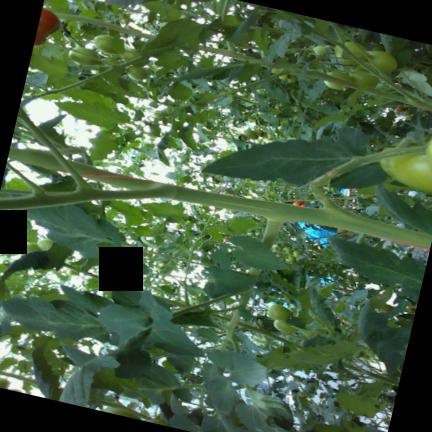6kp_peduncle: (294, 154, 385, 236)
6kp_petiole: (228, 195, 334, 249), (95, 174, 216, 216), (380, 76, 432, 111), (211, 40, 248, 61), (271, 65, 303, 79)
MainStem: (66, 159, 432, 249), (53, 12, 153, 39), (8, 146, 71, 173), (361, 88, 432, 111), (199, 44, 261, 62), (237, 321, 289, 342)
tomato: (380, 153, 432, 191), (34, 7, 60, 45), (334, 41, 367, 63), (369, 50, 397, 72), (69, 46, 100, 65), (350, 68, 379, 87), (324, 70, 351, 89), (120, 48, 148, 66), (93, 34, 117, 53), (267, 304, 291, 320), (273, 319, 298, 333), (125, 65, 148, 80), (16, 242, 41, 254), (37, 237, 53, 250)
